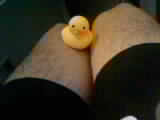duck: (55, 14, 101, 60)
